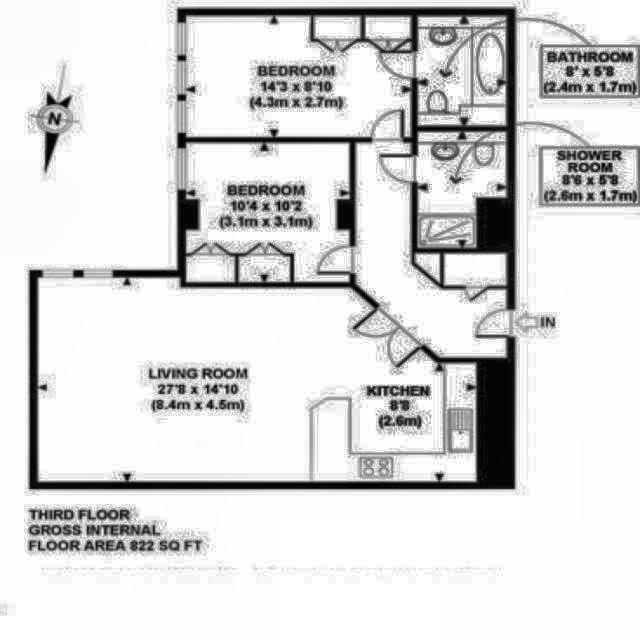room: (37, 277, 477, 482), (355, 140, 508, 360), (185, 15, 413, 138), (186, 142, 350, 283), (418, 131, 508, 248), (417, 15, 508, 127), (443, 252, 508, 286), (413, 252, 440, 283)
